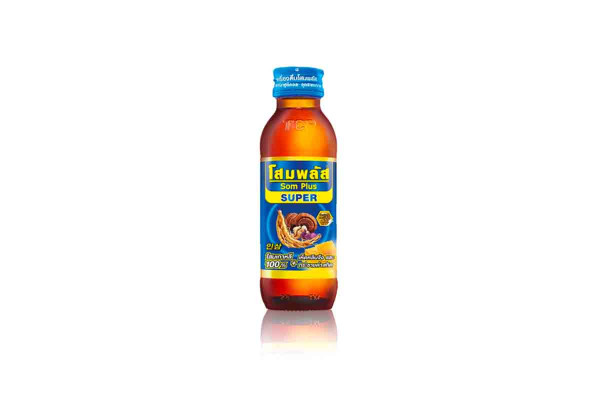glass_bottle: (250, 59, 350, 317)
